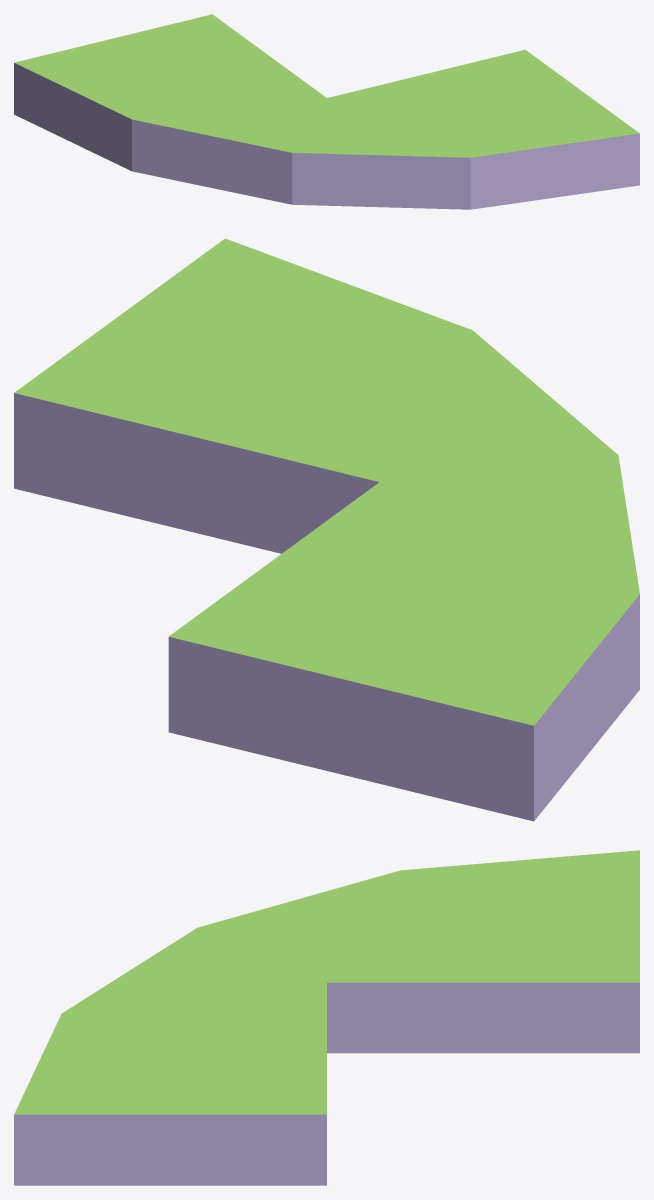
The model's file is Tiered_Grass_Curve_Outer_2x2.glb.
3 views of the same model, one above another, from view 1: azimuth 30°, elevation 25°; view 2: azimuth 150°, elevation 25°; view 3: azimuth 270°, elevation 25° (orthographic). The views are drawn at different scales.
Parts seen in each view (by area): view 1: Tiered_Grass_Curve_Outer_2x2; view 2: Tiered_Grass_Curve_Outer_2x2; view 3: Tiered_Grass_Curve_Outer_2x2.
Boxes of the visible parts, box(x1,y1,x2,y2) form: Tiered_Grass_Curve_Outer_2x2: box(14, 14, 639, 209); Tiered_Grass_Curve_Outer_2x2: box(14, 238, 639, 821); Tiered_Grass_Curve_Outer_2x2: box(14, 850, 639, 1185).
Size of the model in its own units: 200 by 25 by 200.
